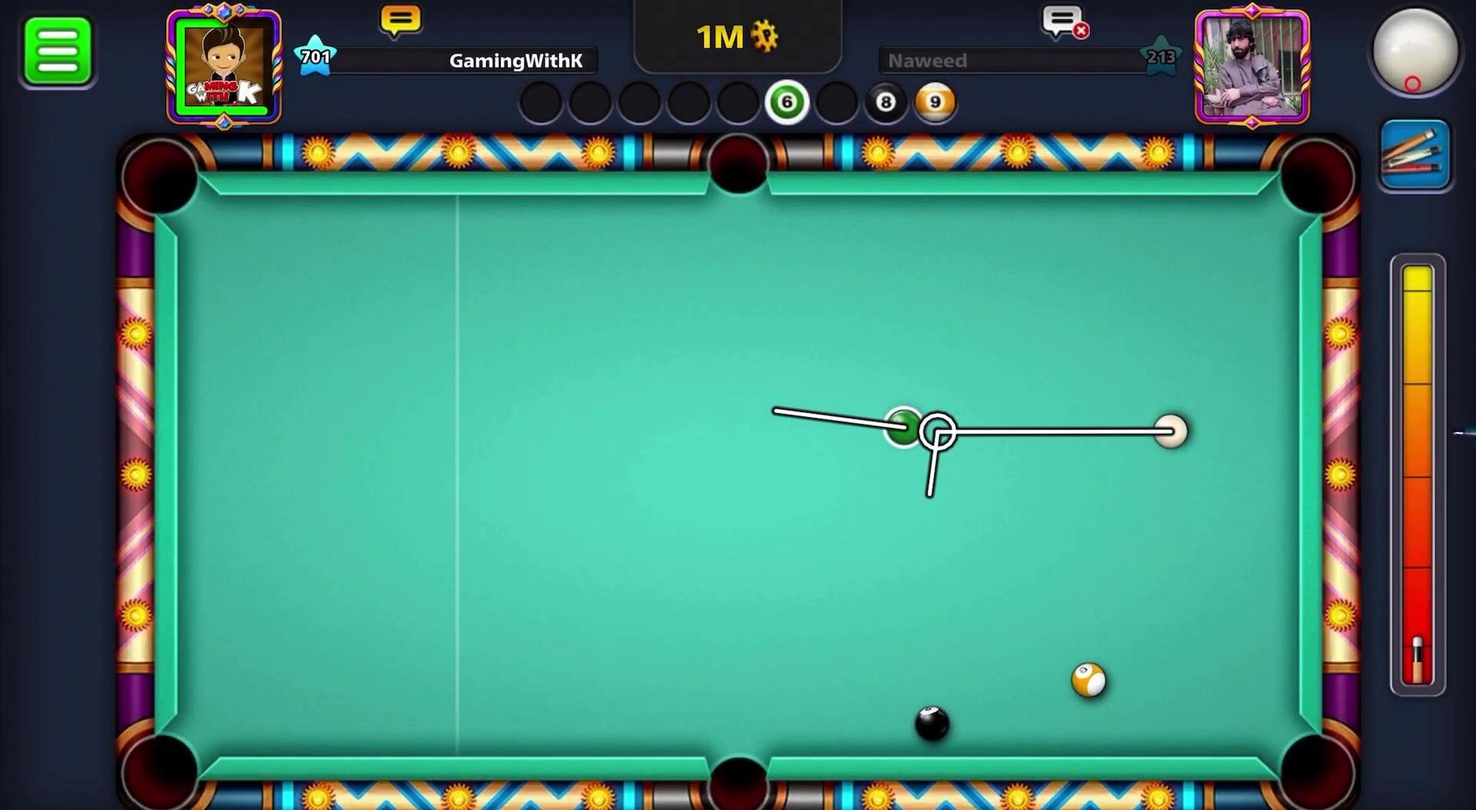Ball: (1067, 655, 1113, 702), (904, 702, 955, 744), (884, 403, 926, 446)
Force: (1388, 255, 1451, 709)
Guideline: (771, 406, 1188, 498)
Hole: (107, 128, 213, 231), (1268, 130, 1366, 231), (111, 717, 213, 809), (1265, 715, 1364, 809), (683, 741, 788, 809), (699, 127, 779, 205)
Play_Area: (178, 194, 1297, 759)
Spin: (1348, 0, 1475, 117)
White: (1153, 409, 1197, 456)
